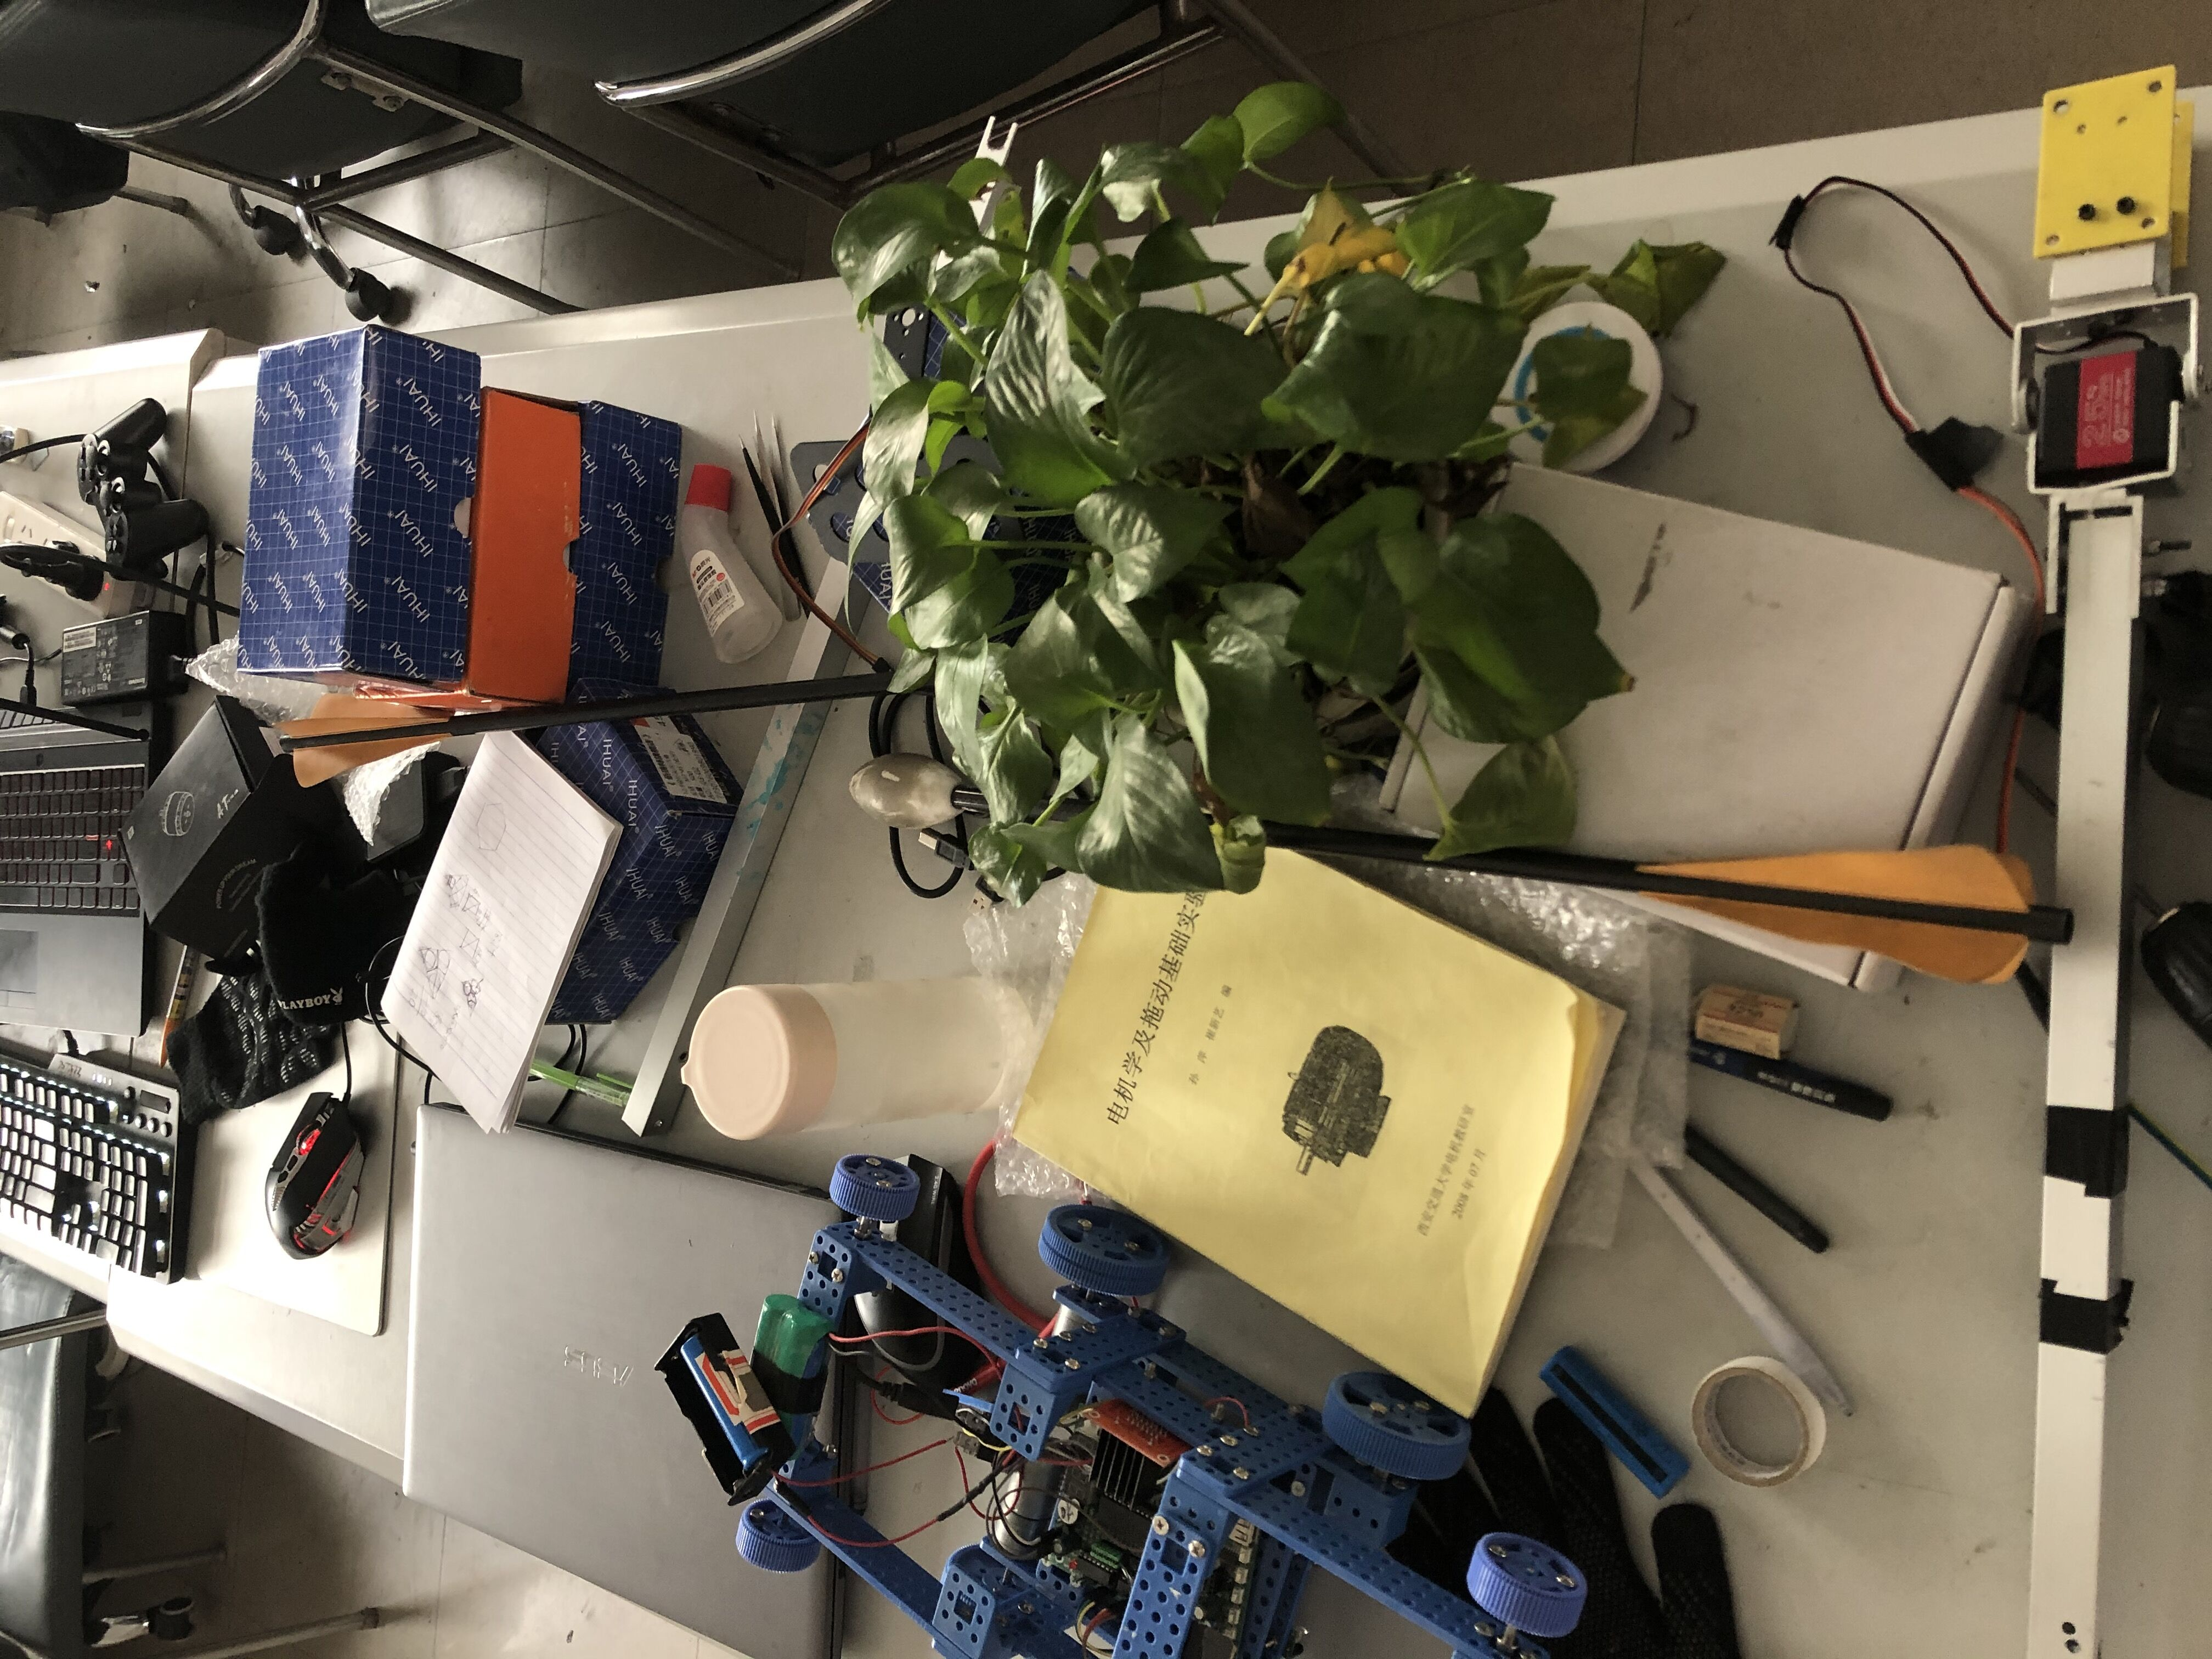arrow: (1264, 823, 2073, 990), (279, 674, 904, 786)
arrowFront: (850, 756, 968, 830)
